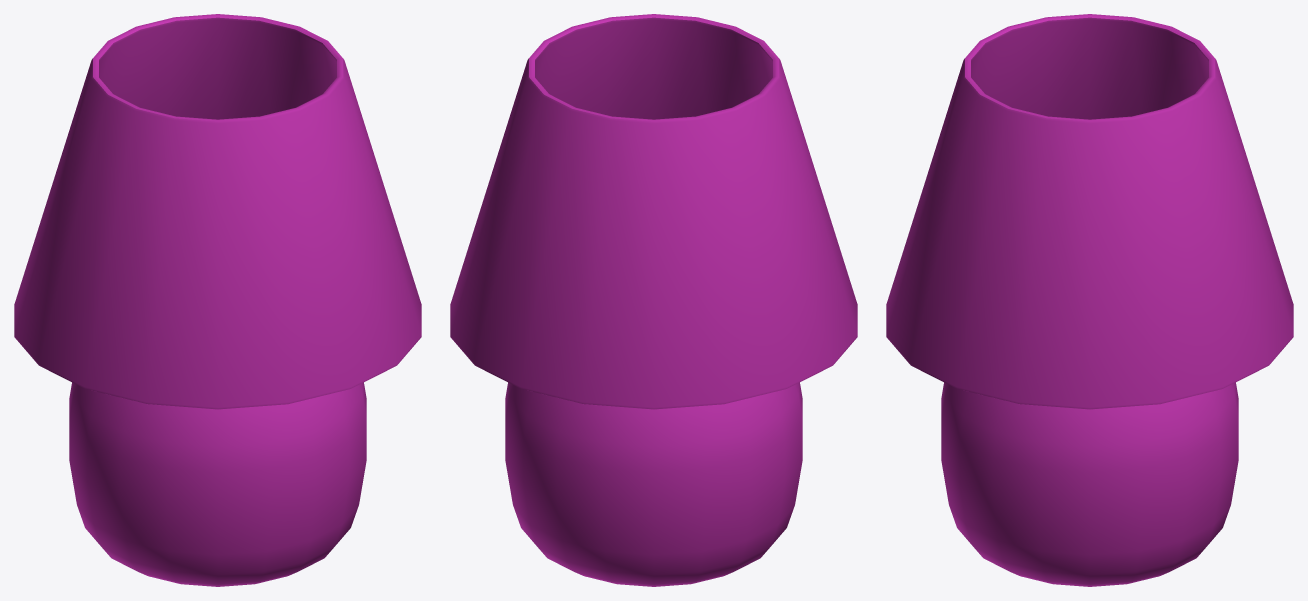
The picture shows the model from 3 angles, left to right: view 1: azimuth 30°, elevation 25°; view 2: azimuth 150°, elevation 25°; view 3: azimuth 270°, elevation 25°; orthographic projection.
Visible parts, largest first — view 1: Cylinder001; view 2: Cylinder001; view 3: Cylinder001.
Part boxes in pixels (left/top/right/bottom): Cylinder001: left=14, top=14, right=421, bottom=586; Cylinder001: left=450, top=14, right=857, bottom=586; Cylinder001: left=886, top=14, right=1293, bottom=586.
Size of the model in its own units: 2.89 by 3.69 by 2.84.
